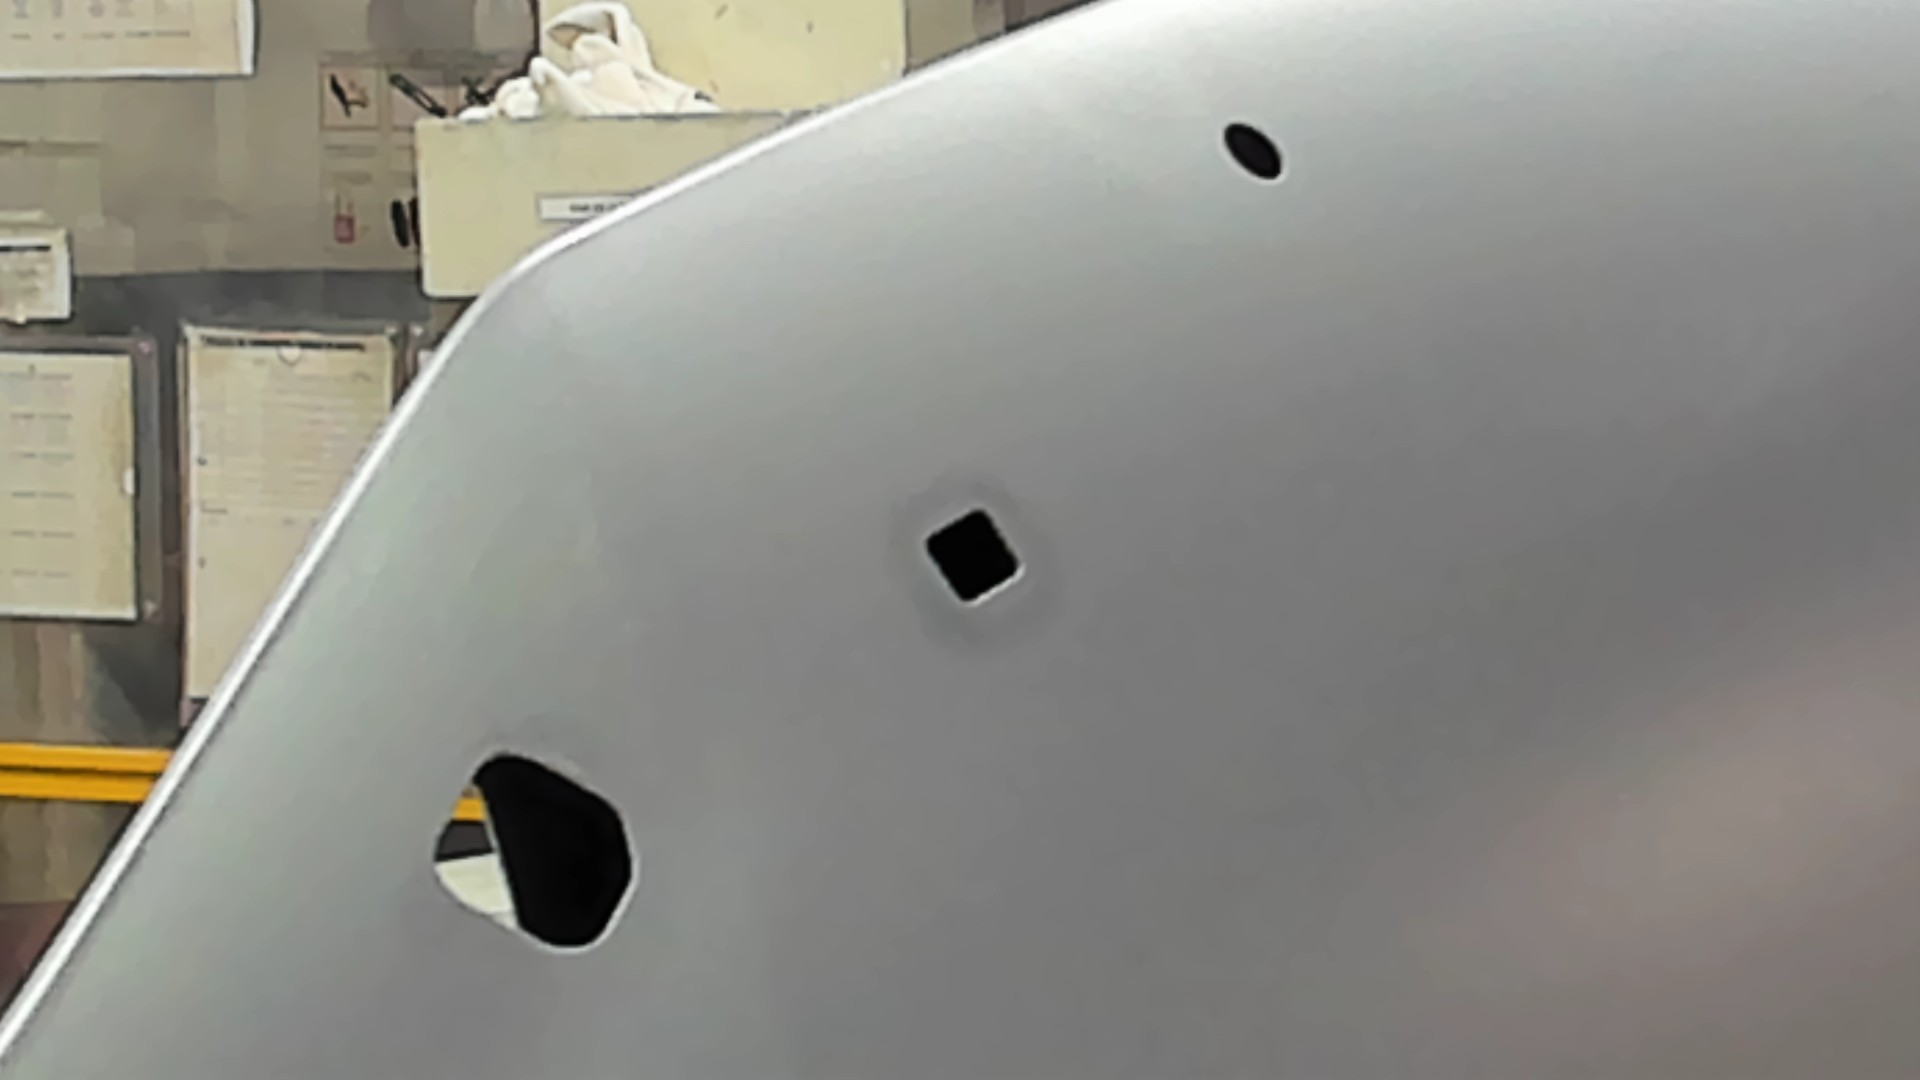chico: (1218, 116, 1284, 183)
grande: (430, 746, 641, 957)
mediano: (919, 504, 1029, 612)
